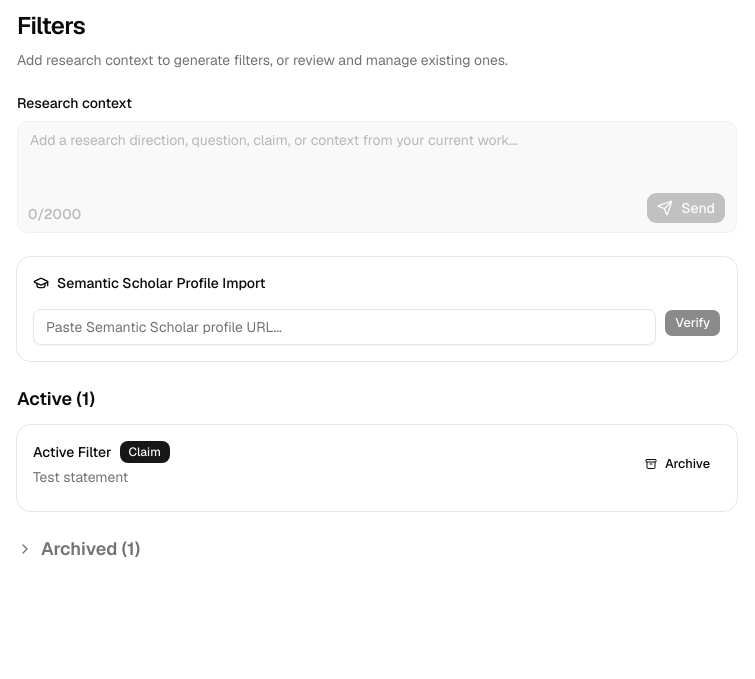
FiltersPage › shows active and archived filters
The width and height of the screenshot is (755, 679).
Check: the text "Active Filter" is shown, box 33,442 -> 112,462
Check: the heading "Active (1)" is shown, box 17,387 -> 95,410
Click the button "Archived (1)". click: [79, 549]
box: 17,535 -> 140,563
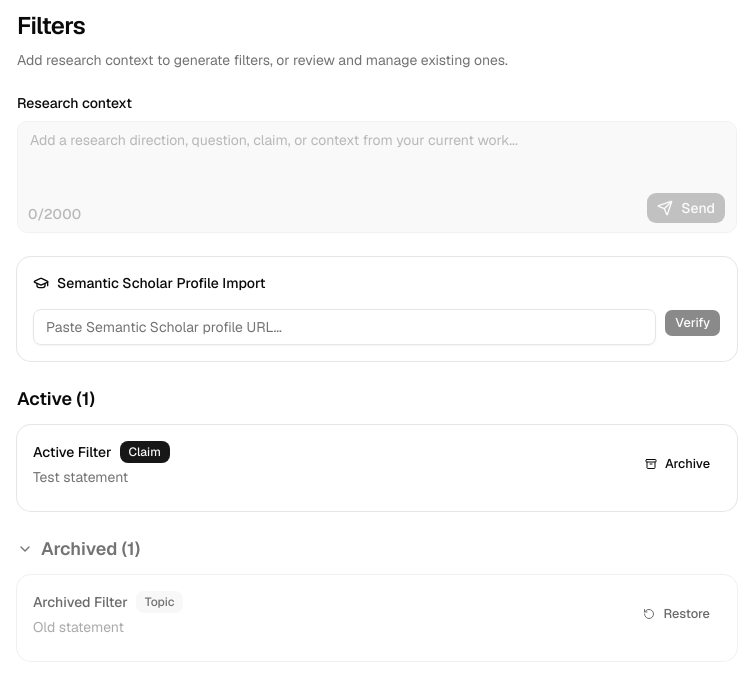
Check: the button "Archived (1)" is expanded, box 17,535 -> 140,563
Check: the text "Archived Filter" is shown, box 33,592 -> 128,612
Check: the text "Topic" is shown, box 136,591 -> 184,613
